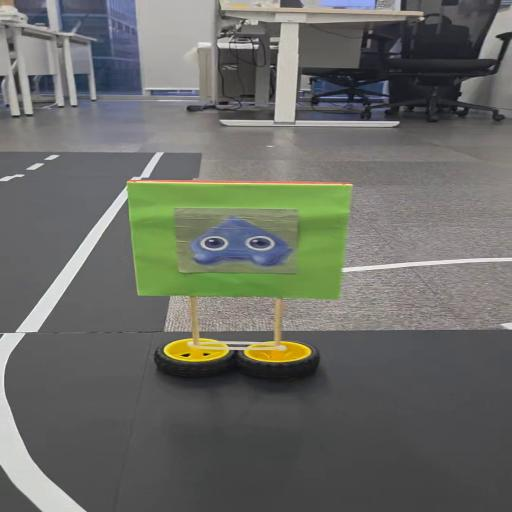Sign_B: (116, 173, 358, 376)
